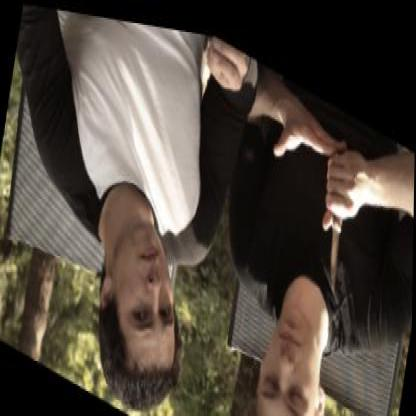knife: (304, 146, 366, 306)
